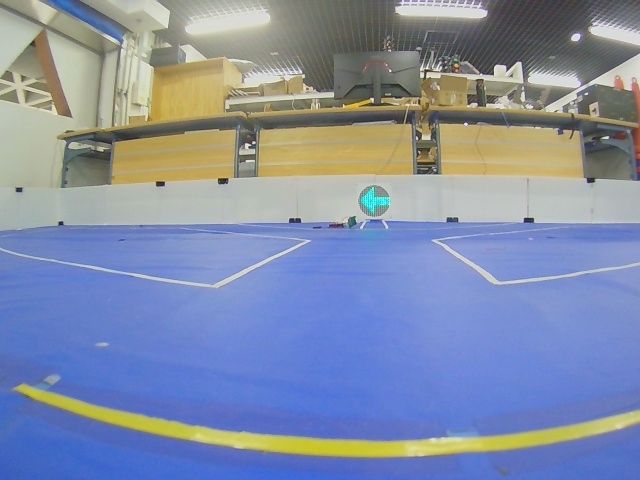left_green: (358, 185, 390, 217)
